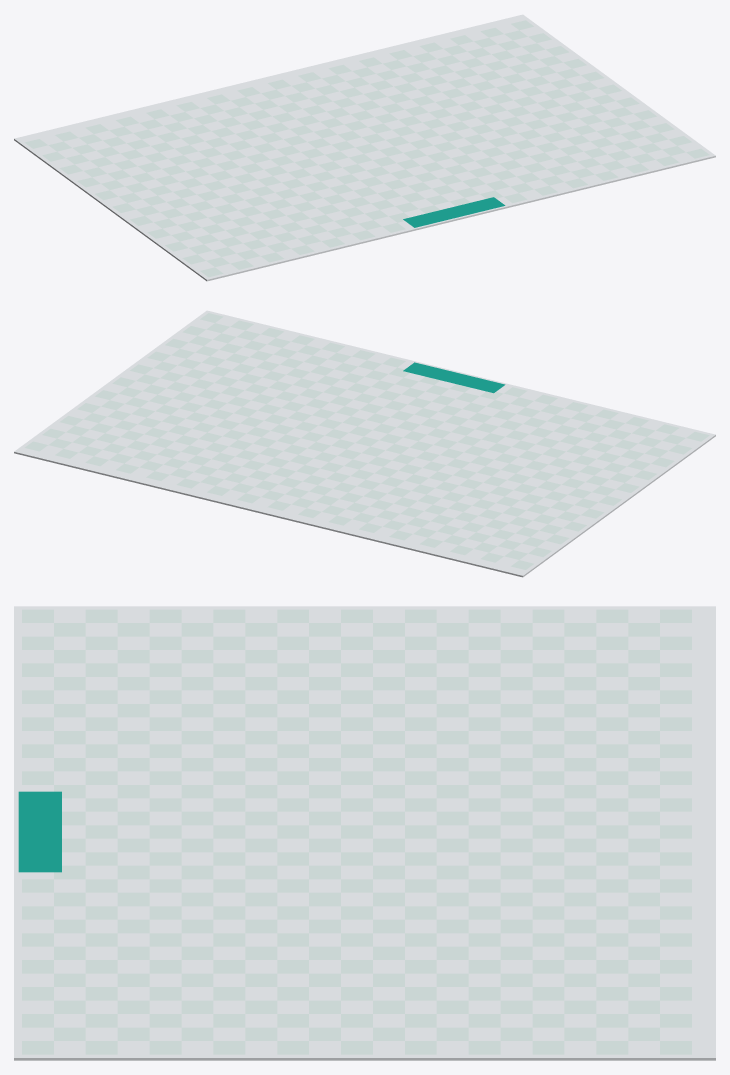
File: CM_Shell_Floor_Supermarket.fbx
3 renders of one model, top to bottom at view 1: azimuth 30°, elevation 25°; view 2: azimuth 150°, elevation 25°; view 3: azimuth 270°, elevation 25°, orthographic. The views are drawn at different scales.
Visible parts, largest first — view 1: Floor; view 2: Floor; view 3: Floor.
Boxes of the visible parts, x1,y1,x2,y2 form: Floor: (14, 14, 715, 281); Floor: (14, 310, 715, 577); Floor: (14, 606, 715, 1060).
Size of the model in its own units: 134 by 88 by 0.402.
Materials: 1 (1 with a texture image).
